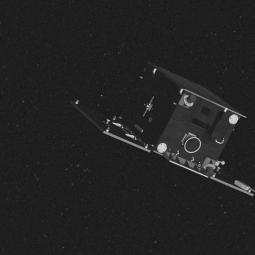proba_2: (79, 50, 255, 199)
